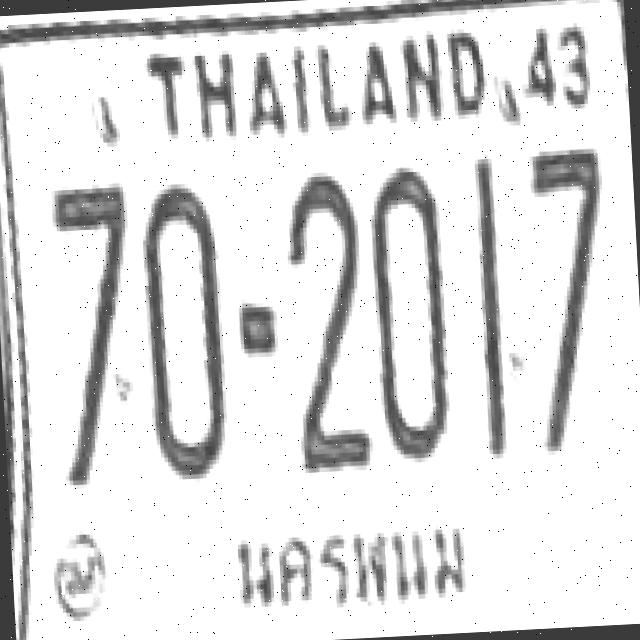0: (138, 178, 229, 481), (364, 162, 452, 464)
1: (472, 152, 506, 393)
2: (282, 166, 371, 428), (288, 232, 372, 471)
7: (49, 185, 140, 488), (51, 180, 136, 434), (50, 180, 134, 388), (530, 144, 608, 338), (50, 180, 132, 361), (530, 144, 608, 320)
NakhonPhanom: (218, 502, 486, 630)
